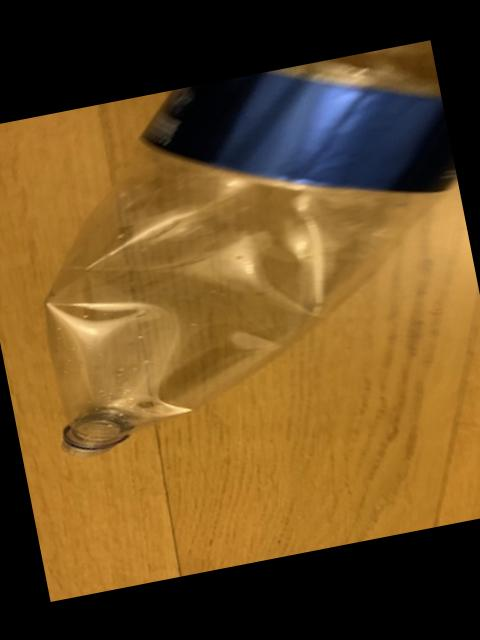plastic: (47, 39, 456, 450)
